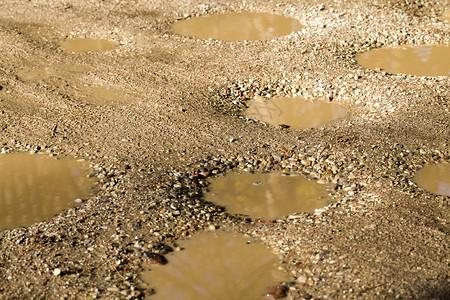pothole: (182, 145, 360, 222), (130, 224, 300, 299), (1, 148, 112, 234), (235, 82, 372, 133), (159, 6, 311, 41), (351, 40, 450, 78), (403, 150, 450, 198), (54, 32, 124, 55)
